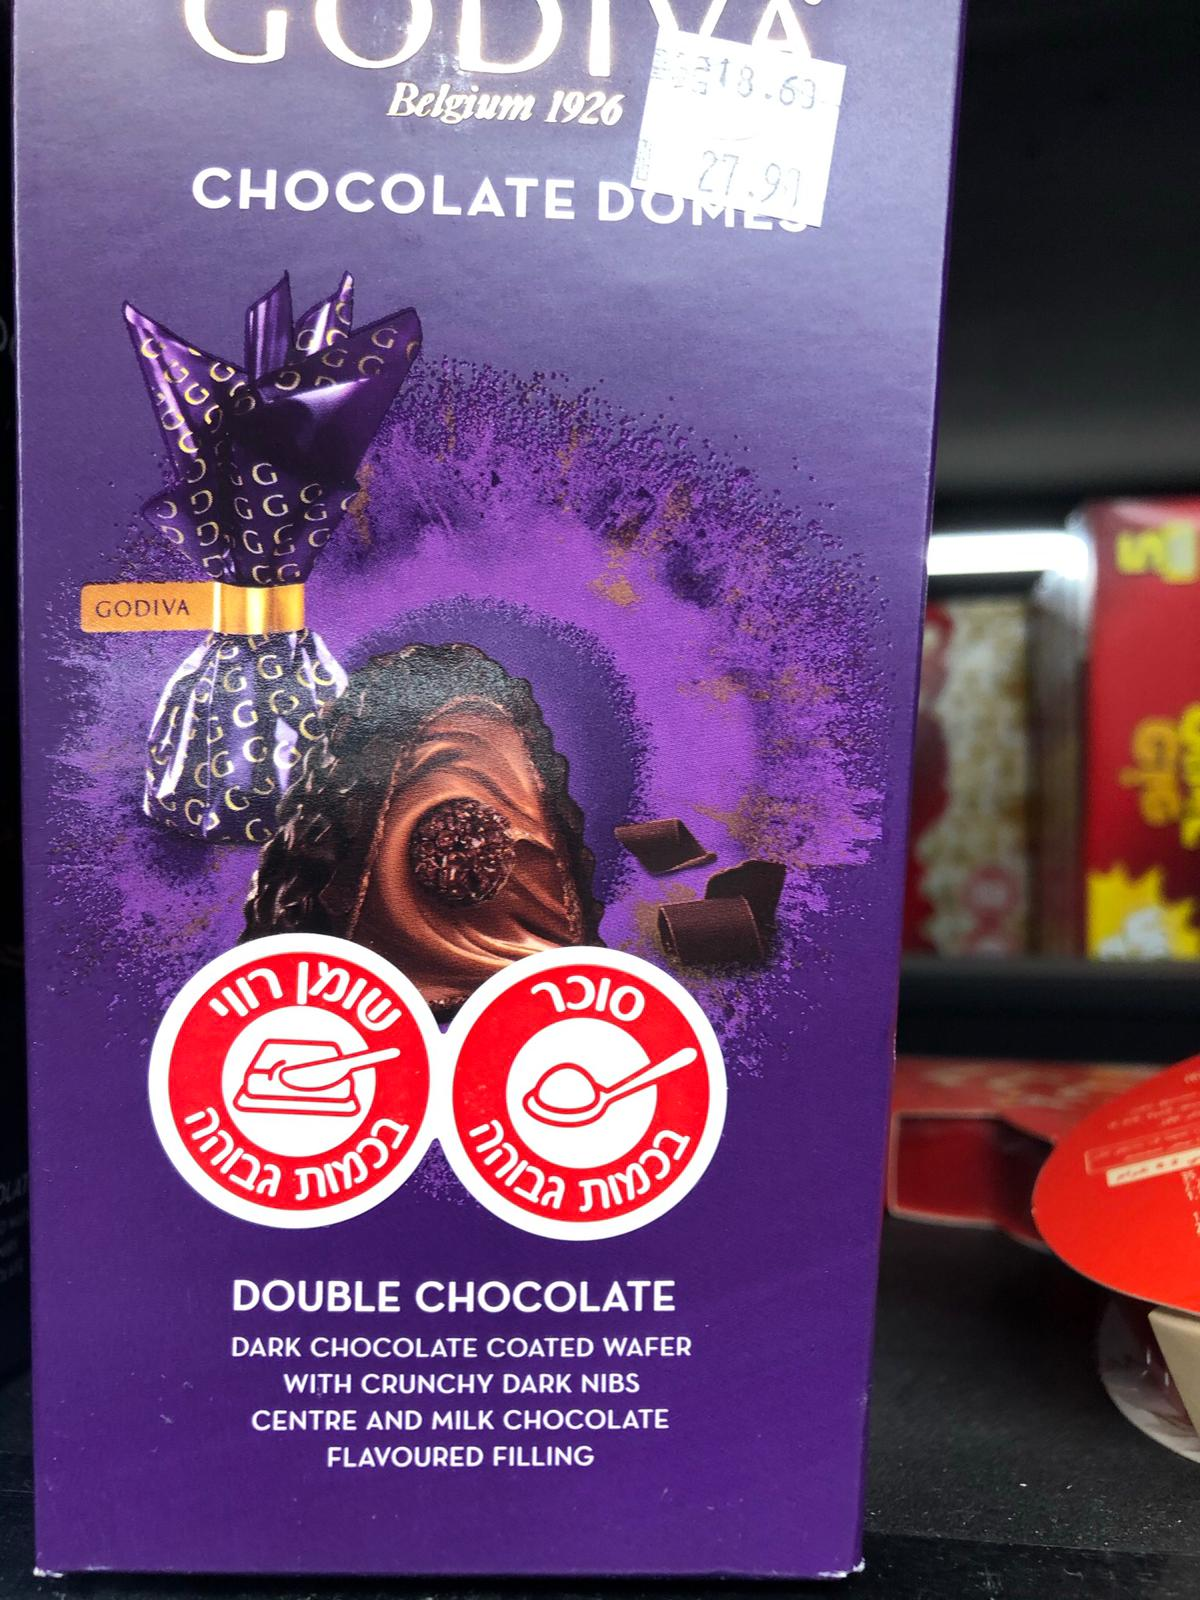fat: (147, 934, 441, 1230)
sugar: (439, 946, 729, 1243)
